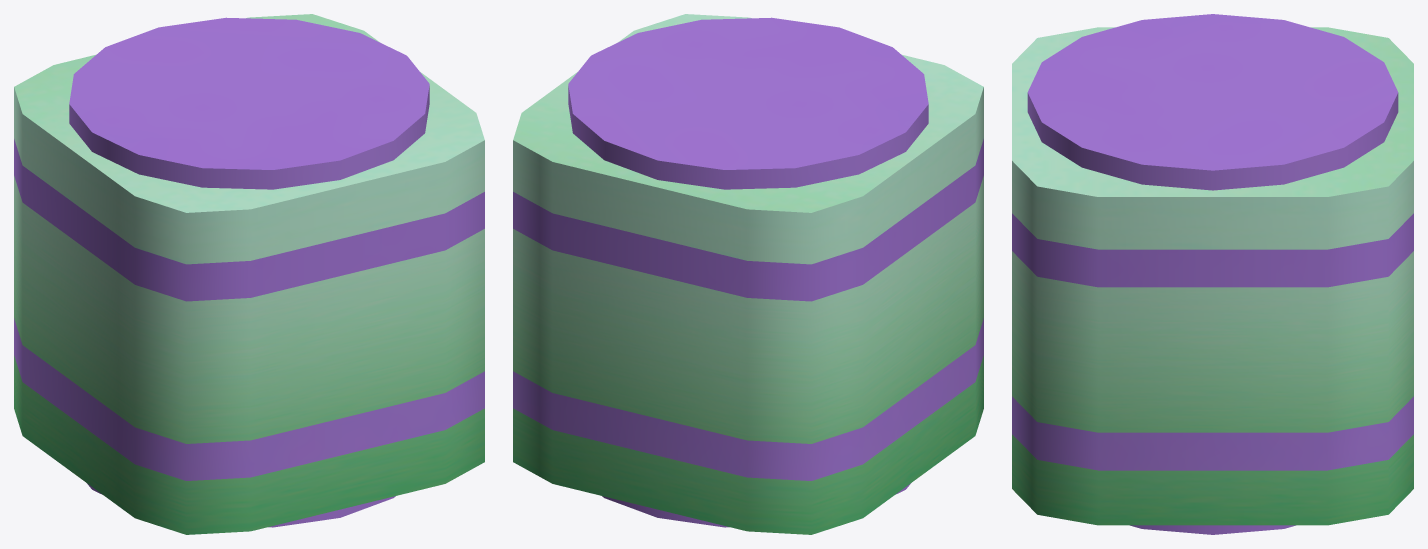
File: Fuel 2.fbx
The picture shows the model from 3 angles, left to right: view 1: azimuth 30°, elevation 25°; view 2: azimuth 150°, elevation 25°; view 3: azimuth 270°, elevation 25°; orthographic projection.
Parts seen in each view (by area): view 1: Fuel 2; view 2: Fuel 2; view 3: Fuel 2.
Part boxes in pixels (bbox=[...]): Fuel 2: bbox=[14, 14, 484, 534]; Fuel 2: bbox=[513, 14, 983, 534]; Fuel 2: bbox=[1012, 14, 1413, 534].
Size of the model in its own units: 100 by 100 by 100.
